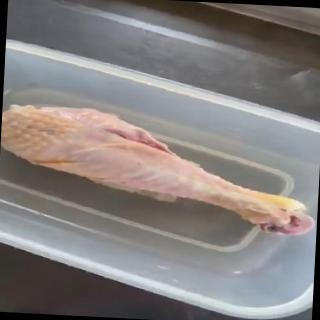Ayam: (1, 103, 320, 238)
